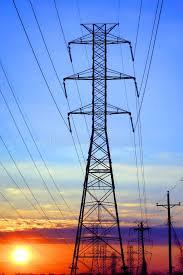tower: (60, 14, 138, 275)
